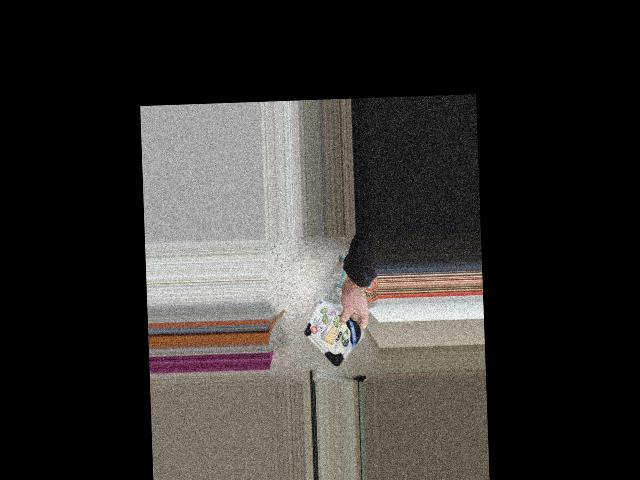cheese: (299, 307, 378, 358)
